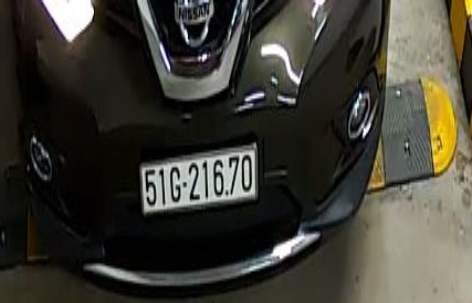plate: (131, 149, 266, 213)
